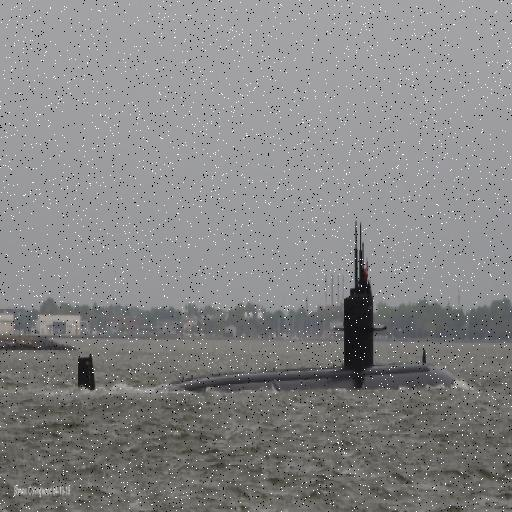submarine: (79, 222, 456, 395)
